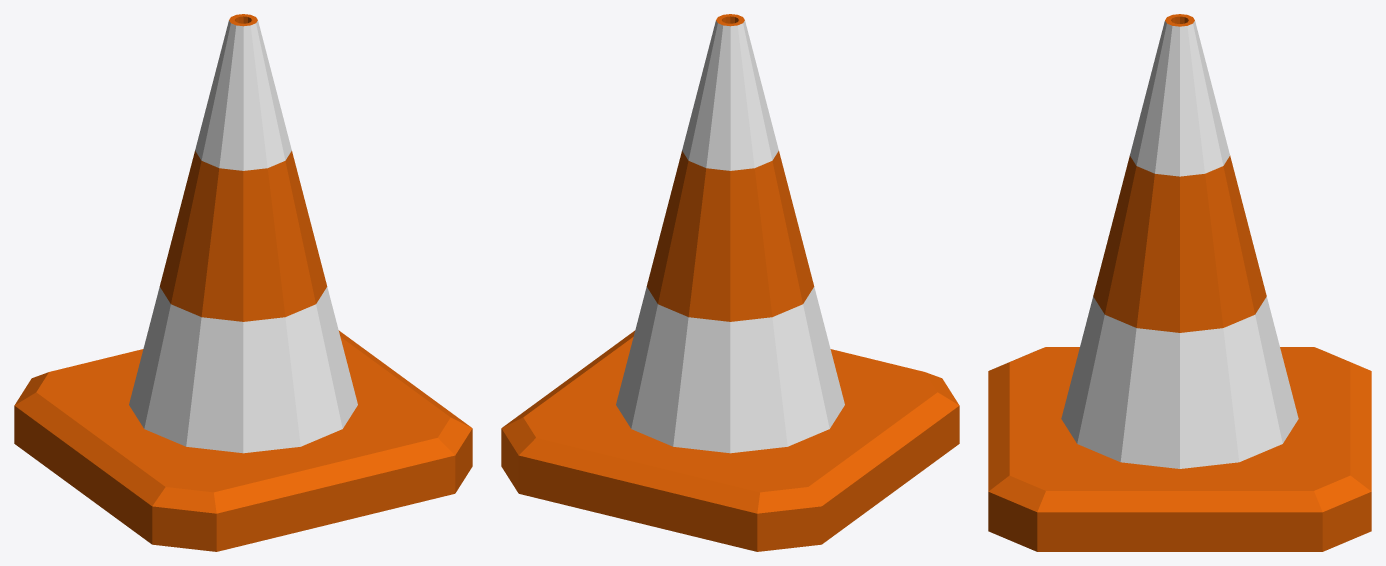
The model's file is TrafficCone.fbx.
3 views of the same model, side by side, from view 1: azimuth 30°, elevation 25°; view 2: azimuth 150°, elevation 25°; view 3: azimuth 270°, elevation 25° (orthographic). The views are drawn at different scales.
Visible parts, largest first — view 1: Circle; view 2: Circle; view 3: Circle.
Part boxes in pixels (<box>): Circle: <box>14,14,472,551</box>; Circle: <box>501,14,959,551</box>; Circle: <box>988,14,1371,551</box>.
Bounding box in the file's own units: 162 × 210 × 162.
